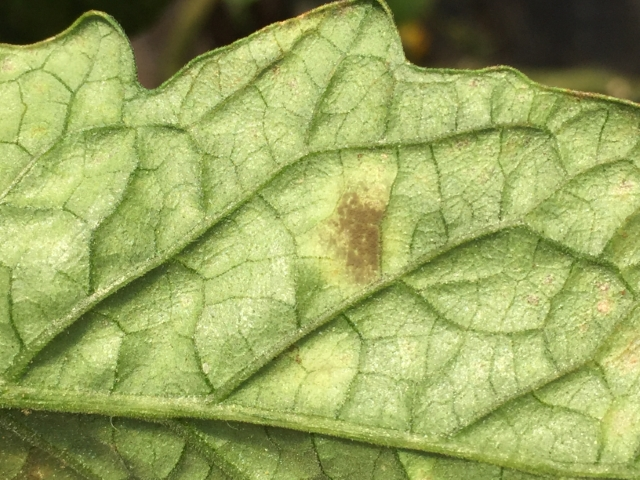cladosporium: (321, 187, 403, 292)
